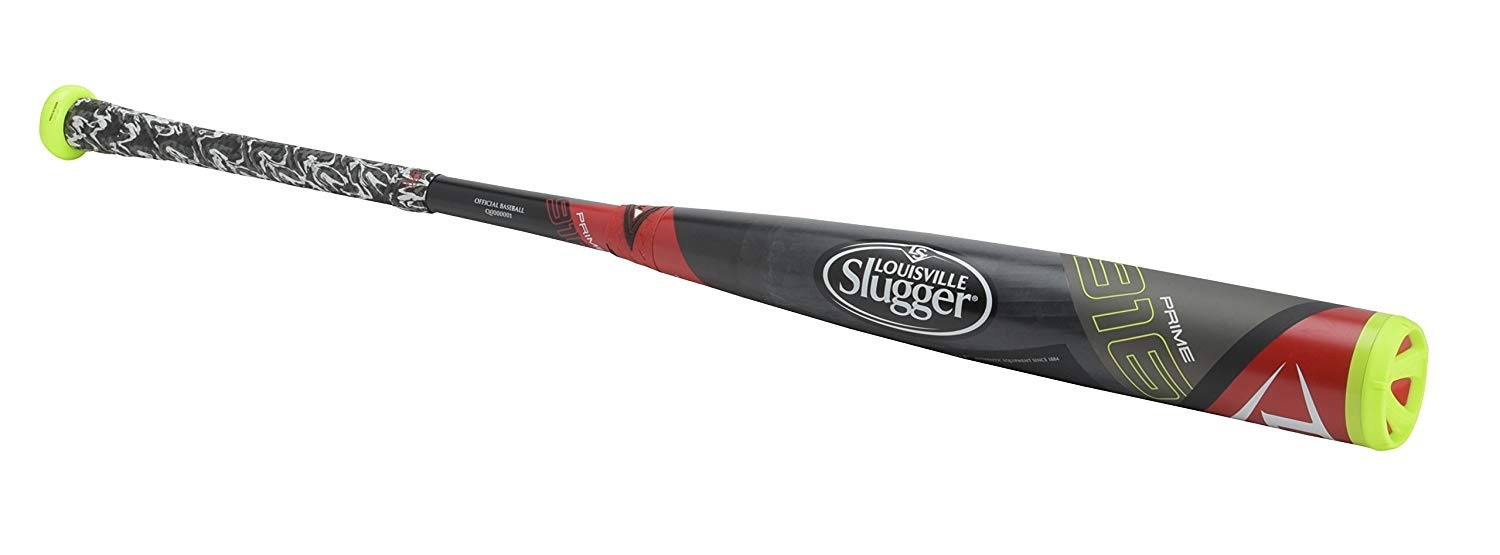bita: (43, 78, 1425, 449)
